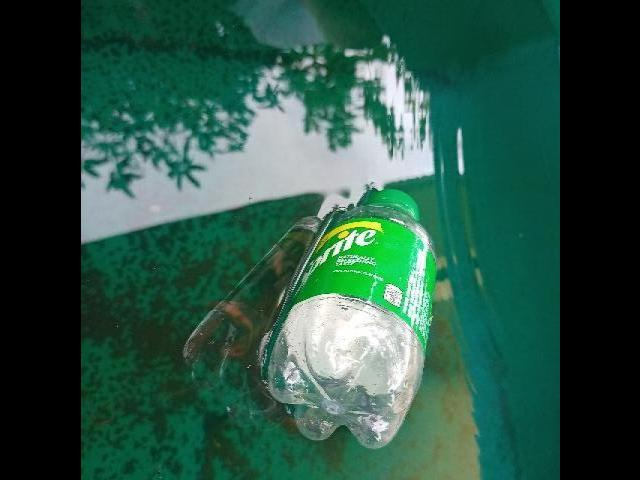Bottle: (256, 178, 444, 462)
